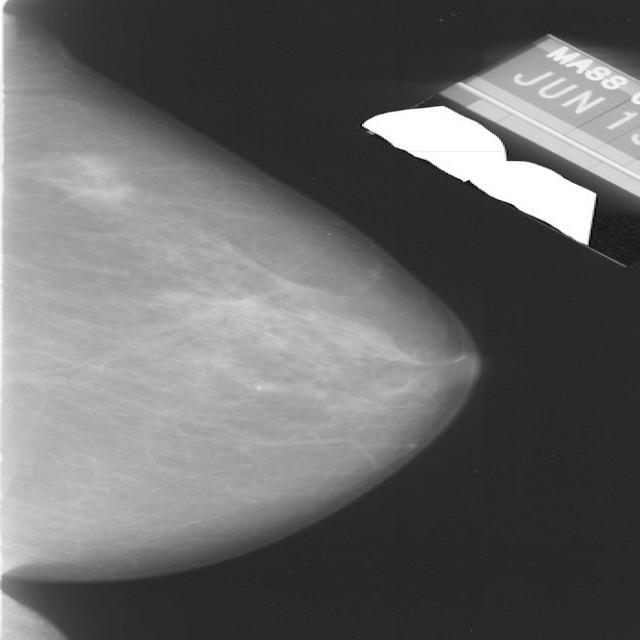tumour: (66, 151, 133, 207)
